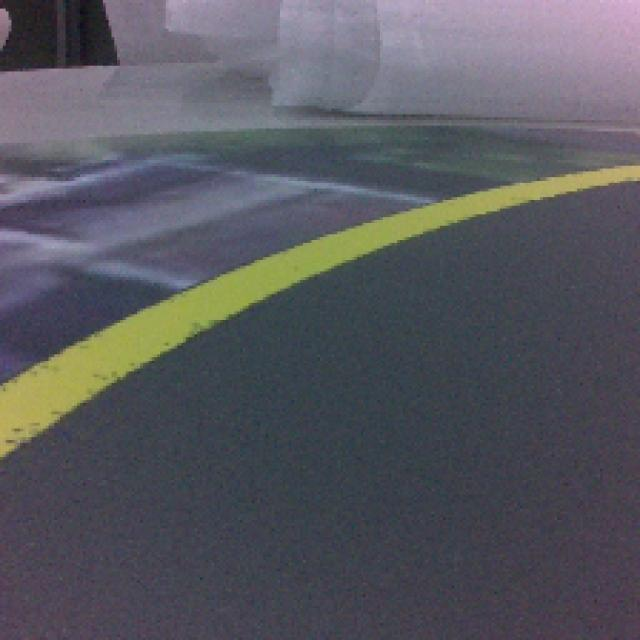Road: (0, 369, 640, 640)
